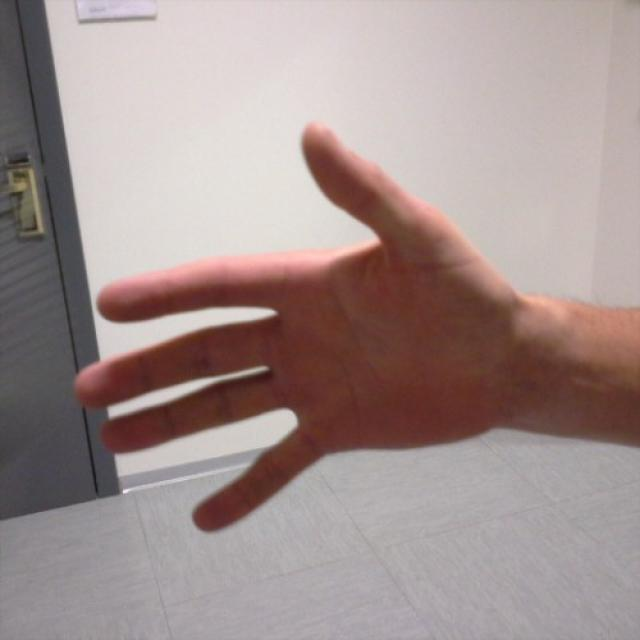paper: (72, 124, 490, 538)
